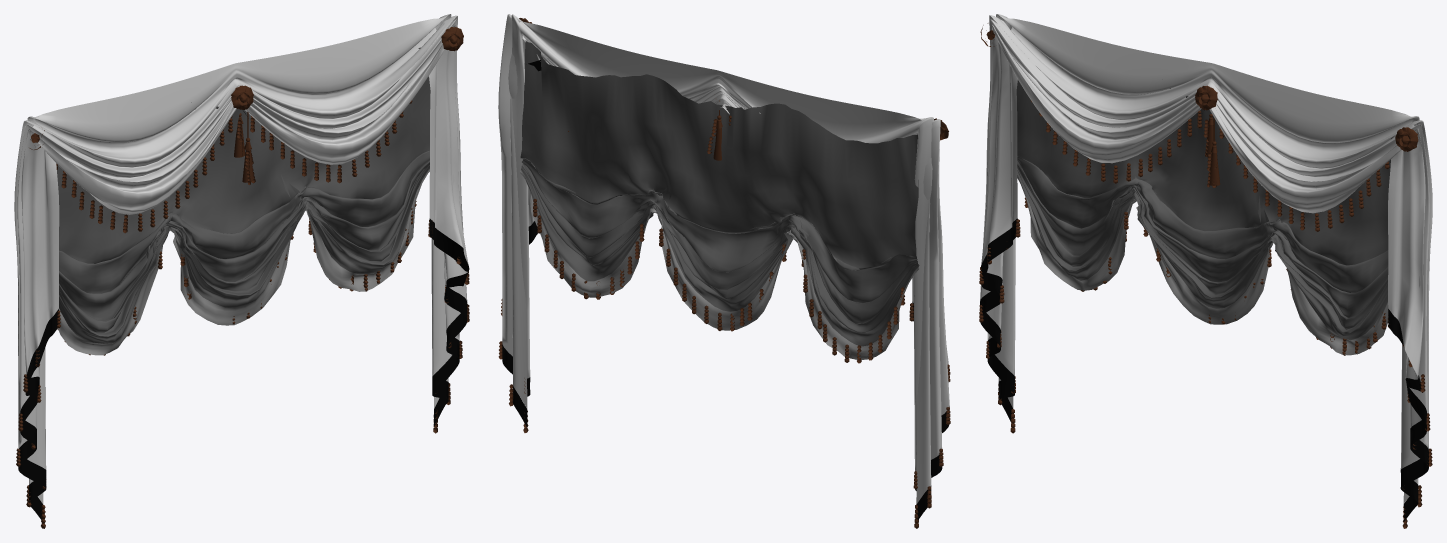
The model's file is curtains.FBX.
The picture shows the model from 3 angles, left to right: view 1: azimuth 30°, elevation 25°; view 2: azimuth 150°, elevation 25°; view 3: azimuth 330°, elevation 25°; orthographic projection.
Visible parts, largest first — view 1: Line13, Line03; view 2: Line03, Line13; view 3: Line13, Line03.
Part boxes in pixels (<box>): Line13: <box>14,14,469,519</box>; Line03: <box>57,47,430,355</box>; Line03: <box>520,41,919,359</box>; Line13: <box>498,14,949,519</box>; Line13: <box>980,14,1432,521</box>; Line03: <box>1016,80,1394,355</box>.
Size of the model in its own units: 1801 by 1589 by 163.
